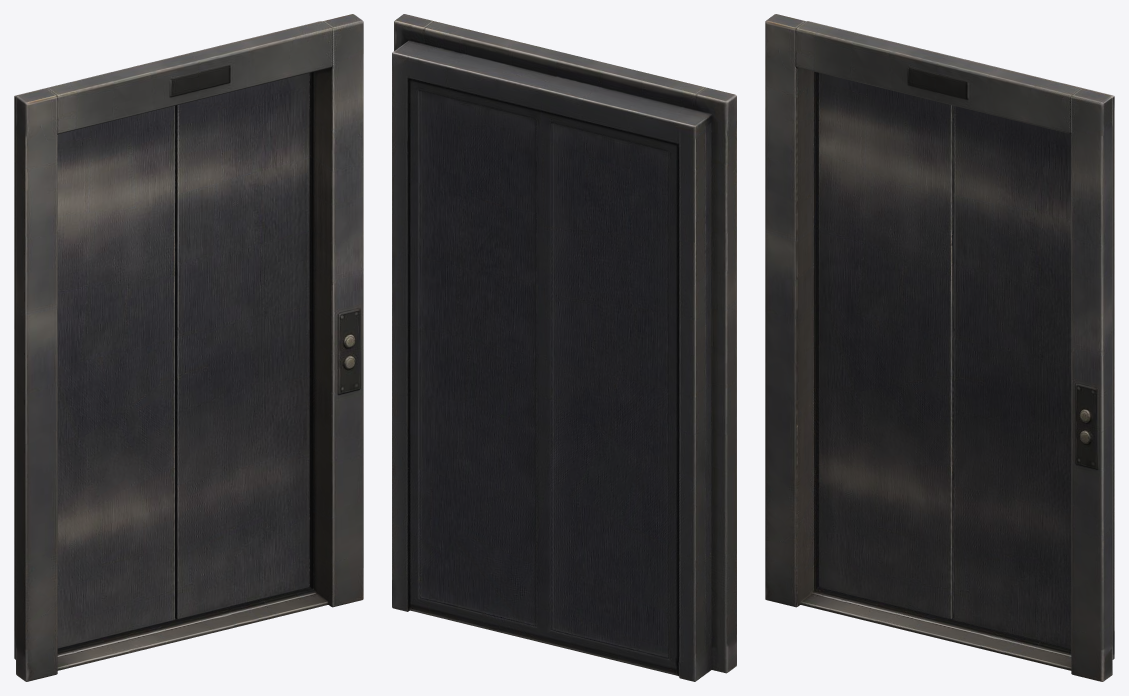
File: closed_elevator.glb
3 renders of one model, left to right at view 1: azimuth 30°, elevation 25°; view 2: azimuth 150°, elevation 25°; view 3: azimuth 330°, elevation 25°, orthographic.
Visible parts, largest first — view 1: mesh_node; view 2: mesh_node; view 3: mesh_node.
Boxes of the visible parts, box(x1,y1,x2,y2) form: mesh_node: box(14, 14, 363, 681); mesh_node: box(392, 14, 736, 681); mesh_node: box(765, 14, 1114, 681).
Bounding box in the file's own units: 1.16 × 1.9 × 0.1787.
1 material, 1 textured.
